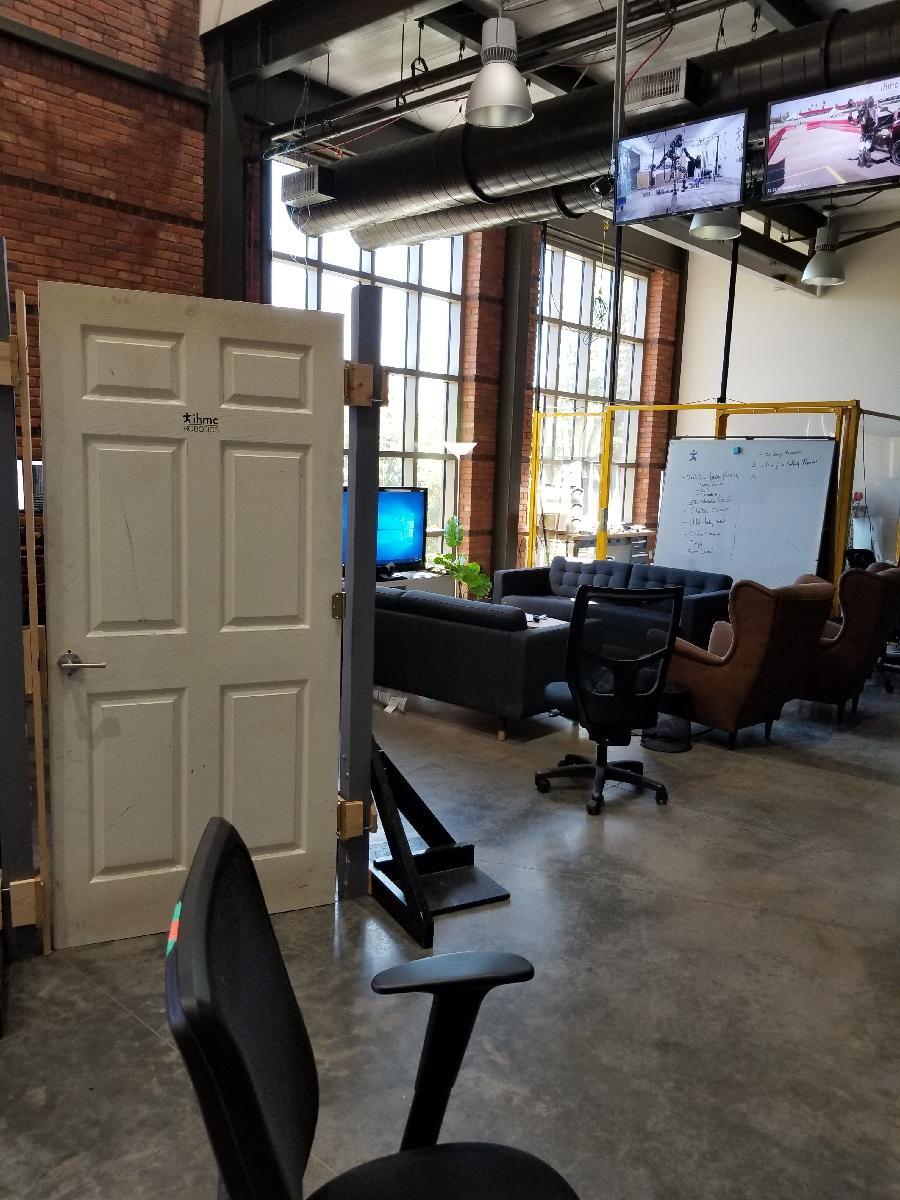door: (27, 277, 347, 957)
doorHandle: (55, 651, 116, 681)
